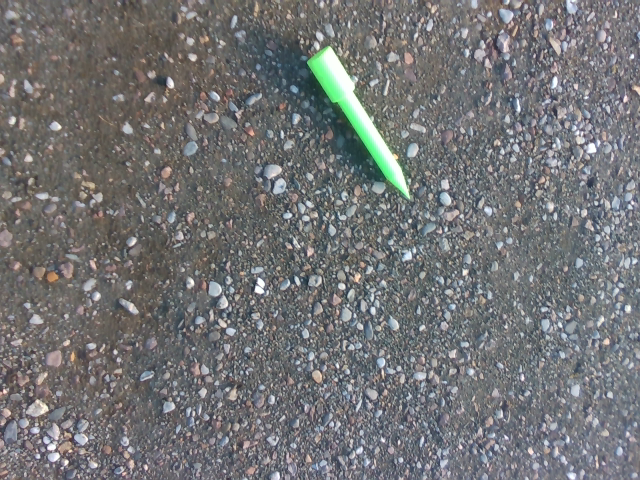Probe: (302, 37, 417, 206)
